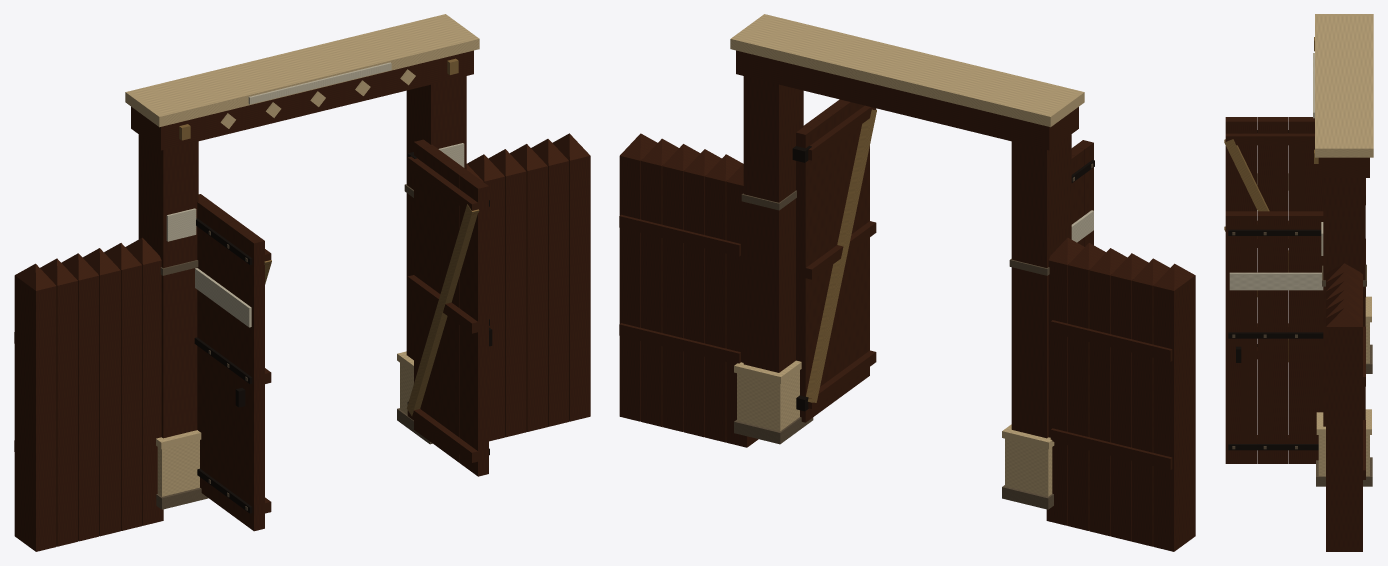
File: Berber_PalisadeGate_Age4_Open.fbx
3 views of the same model, side by side, from view 1: azimuth 30°, elevation 25°; view 2: azimuth 150°, elevation 25°; view 3: azimuth 270°, elevation 25° (orthographic). The views are drawn at different scales.
Parts seen in each view (by area): view 1: lintel_earth_weather_cap, left_palm_gatepost, left_palisade_stake_5, mortised_palm_lintel, right_palisade_stake_3, left_palisade_stake_3, right_palisade_stake_2, right_palisade_stake_5, left_palisade_stake_1, left_palisade_stake_2, right_palisade_stake_4, left_palisade_stake_4 (+24 smaller); view 2: right_palm_gatepost, lintel_earth_weather_cap, left_palm_gatepost, left_palisade_stake_5, mortised_palm_lintel, right_palisade_stake_5, left_palisade_stake_3, left_palisade_stake_2, right_palisade_stake_3, right_palisade_stake_2, left_palisade_stake_1, right_palisade_stake_1 (+26 smaller); view 3: right_palisade_stake_5, lintel_earth_weather_cap, right_palm_gatepost, right_door_plank_6, right_door_plank_1, right_door_plank_2, right_door_plank_3, right_door_plank_4, right_door_plank_5, right_owner_leaf_stripe, left_door_plank_2, left_door_plank_3 (+19 smaller).
Boxes of the visible parts, box(x1,y1,x2,y2) form: lintel_earth_weather_cap: box(125, 14, 479, 127); left_palm_gatepost: box(138, 134, 198, 438); left_palisade_stake_5: box(14, 263, 56, 551); mortised_palm_lintel: box(131, 50, 473, 150); right_palisade_stake_3: box(510, 144, 547, 431); left_palisade_stake_3: box(61, 253, 99, 541); right_palisade_stake_2: box(488, 149, 526, 437); right_palisade_stake_5: box(552, 133, 590, 421); left_palisade_stake_1: box(104, 243, 142, 530); left_palisade_stake_2: box(82, 248, 120, 536); right_palisade_stake_4: box(531, 139, 569, 426); left_palisade_stake_4: box(40, 258, 77, 546); right_palm_gatepost: box(743, 76, 803, 372); lintel_earth_weather_cap: box(730, 14, 1084, 127); left_palm_gatepost: box(1011, 134, 1071, 438); left_palisade_stake_5: box(1153, 263, 1195, 551); mortised_palm_lintel: box(736, 50, 1078, 150); right_palisade_stake_5: box(619, 133, 657, 421); left_palisade_stake_3: box(1110, 253, 1148, 541); left_palisade_stake_2: box(1089, 248, 1127, 536); right_palisade_stake_3: box(662, 144, 700, 431); right_palisade_stake_2: box(683, 149, 721, 437); left_palisade_stake_1: box(1068, 243, 1105, 530); right_palisade_stake_1: box(705, 154, 742, 442); right_palisade_stake_5: box(1326, 308, 1362, 551); lintel_earth_weather_cap: box(1315, 14, 1373, 157); right_palm_gatepost: box(1323, 178, 1365, 426); right_door_plank_6: box(1225, 211, 1241, 463); right_door_plank_1: box(1304, 211, 1320, 463); right_door_plank_2: box(1289, 211, 1304, 463); right_door_plank_3: box(1273, 211, 1288, 463); right_door_plank_4: box(1257, 211, 1272, 463); right_door_plank_5: box(1241, 211, 1256, 463); right_owner_leaf_stripe: box(1229, 272, 1323, 290); left_door_plank_2: box(1289, 117, 1304, 211); left_door_plank_3: box(1273, 117, 1288, 211).
Size of the model in its own units: 1018 by 721 by 275.
6 materials, 6 textured.
